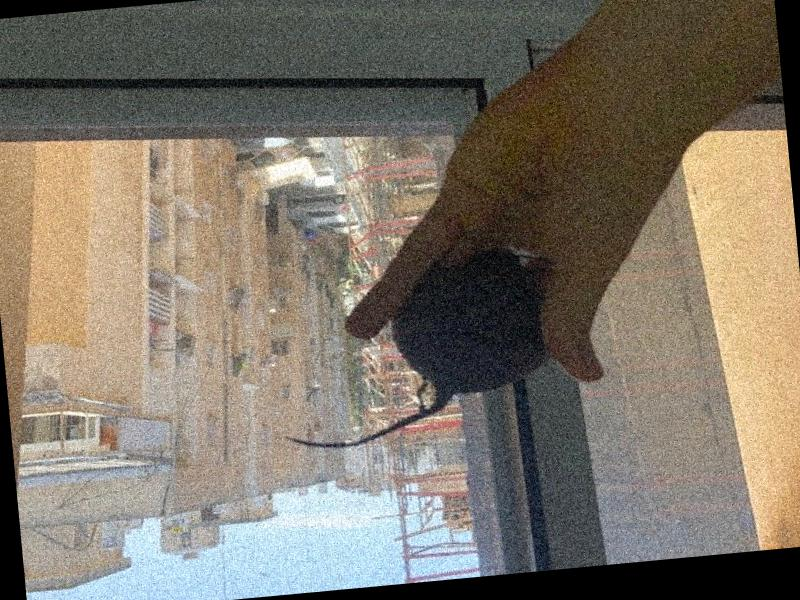Beet: (268, 247, 554, 455)
